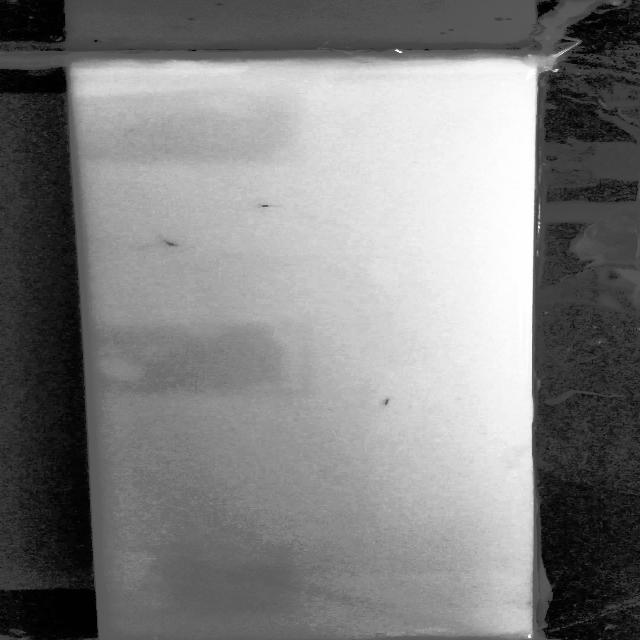shrimp: (255, 200, 285, 211), (154, 235, 176, 249), (376, 396, 402, 406)
